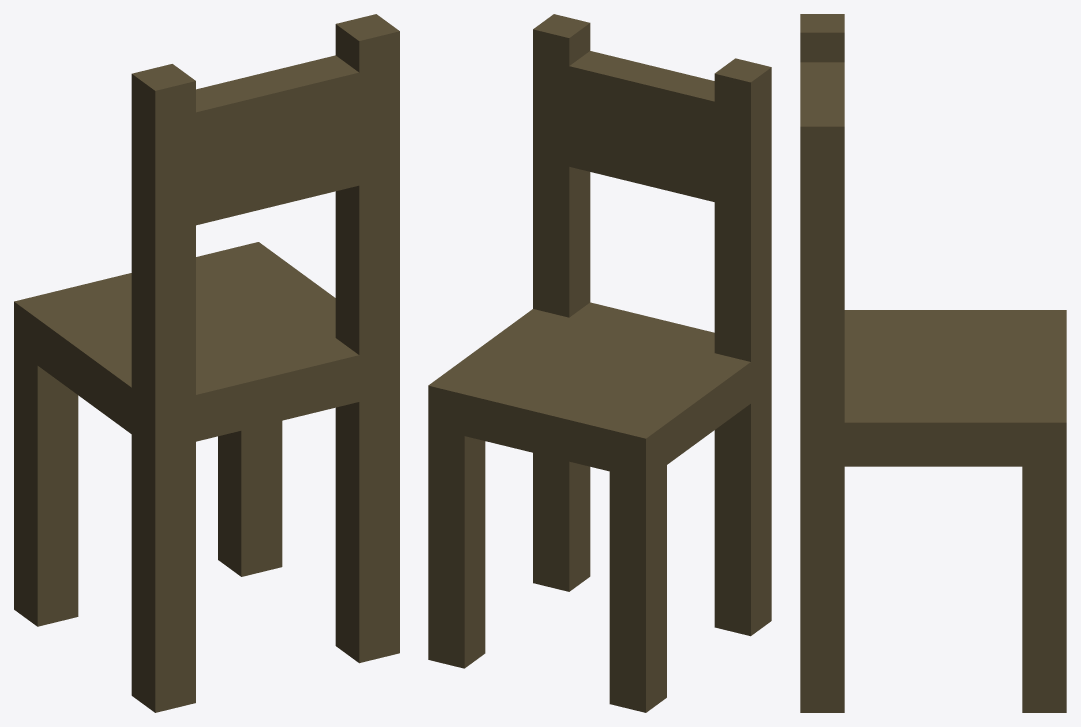
The model's file is Chair.fbx.
3 views of the same model, side by side, from view 1: azimuth 30°, elevation 25°; view 2: azimuth 150°, elevation 25°; view 3: azimuth 270°, elevation 25° (orthographic). The views are drawn at different scales.
Visible parts, largest first — view 1: Chair1; view 2: Chair1; view 3: Chair1.
Boxes of the visible parts, x1=… form: Chair1: x1=14, y1=14, x2=399, y2=712; Chair1: x1=428, y1=14, x2=771, y2=712; Chair1: x1=800, y1=14, x2=1066, y2=712.
Size of the model in its own units: 1.9 by 4.62 by 1.9.
